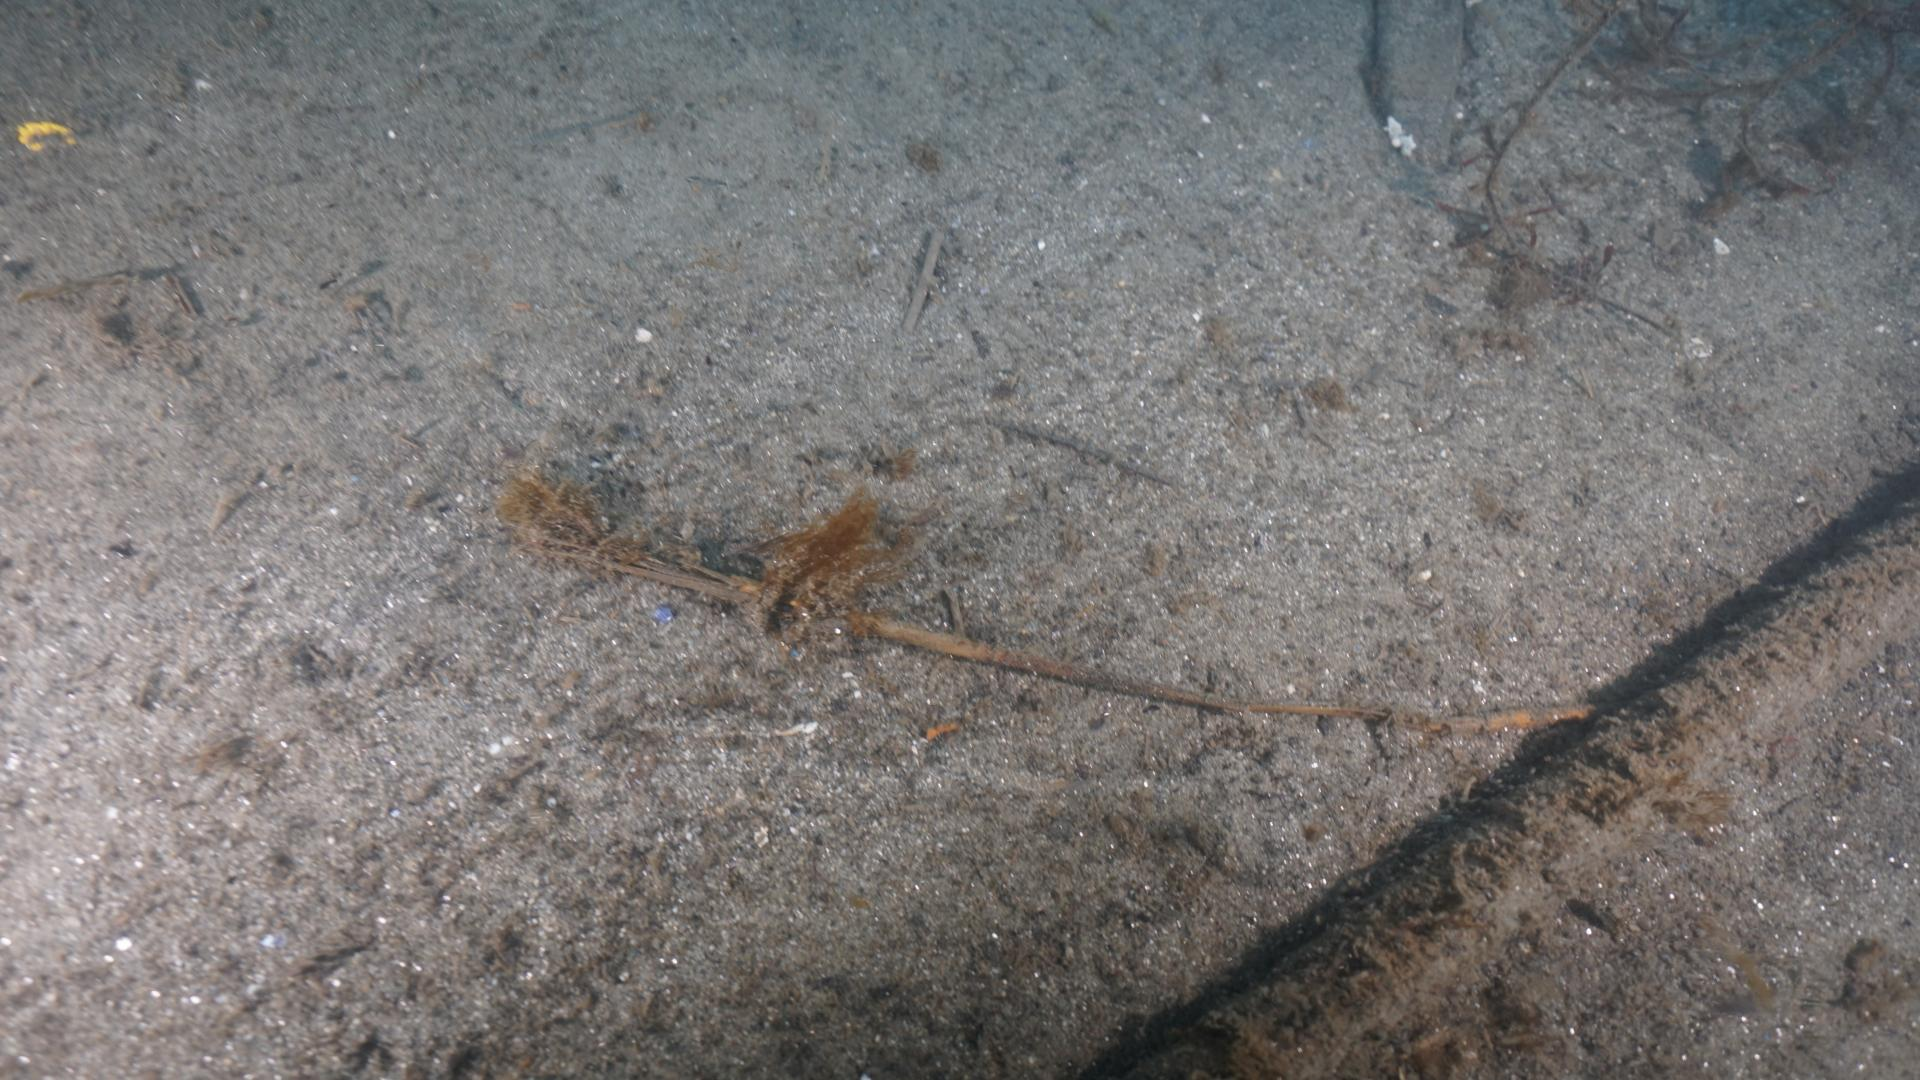wood: (512, 487, 1592, 725)
